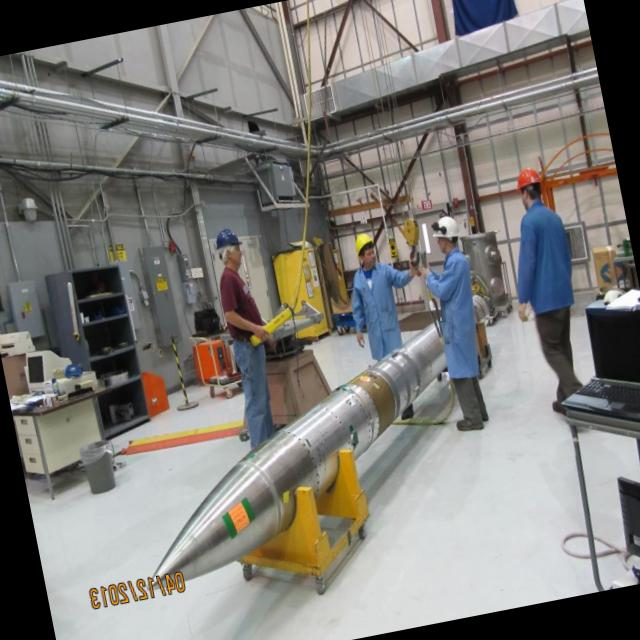rocket: (111, 329, 471, 601)
